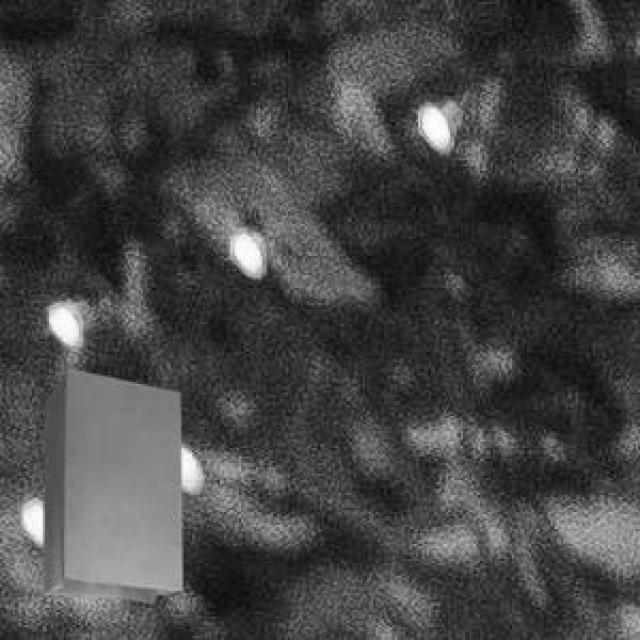paper: (41, 365, 177, 600)
